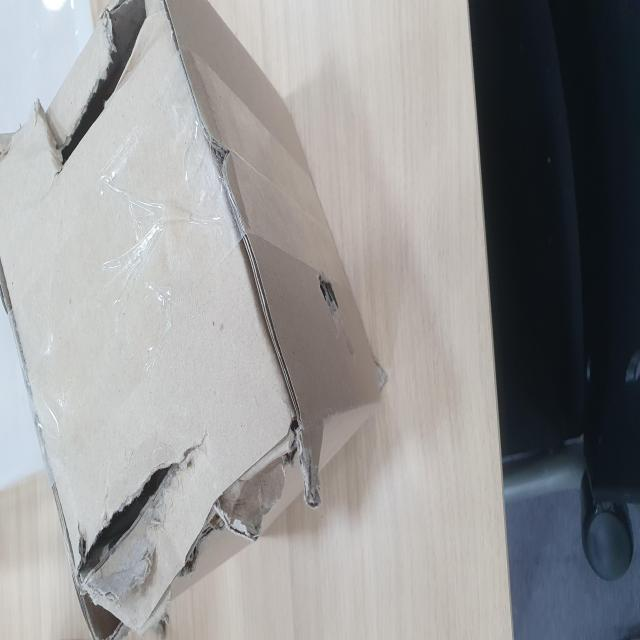damaged: (1, 127, 114, 365), (257, 65, 360, 286), (178, 558, 211, 618)
